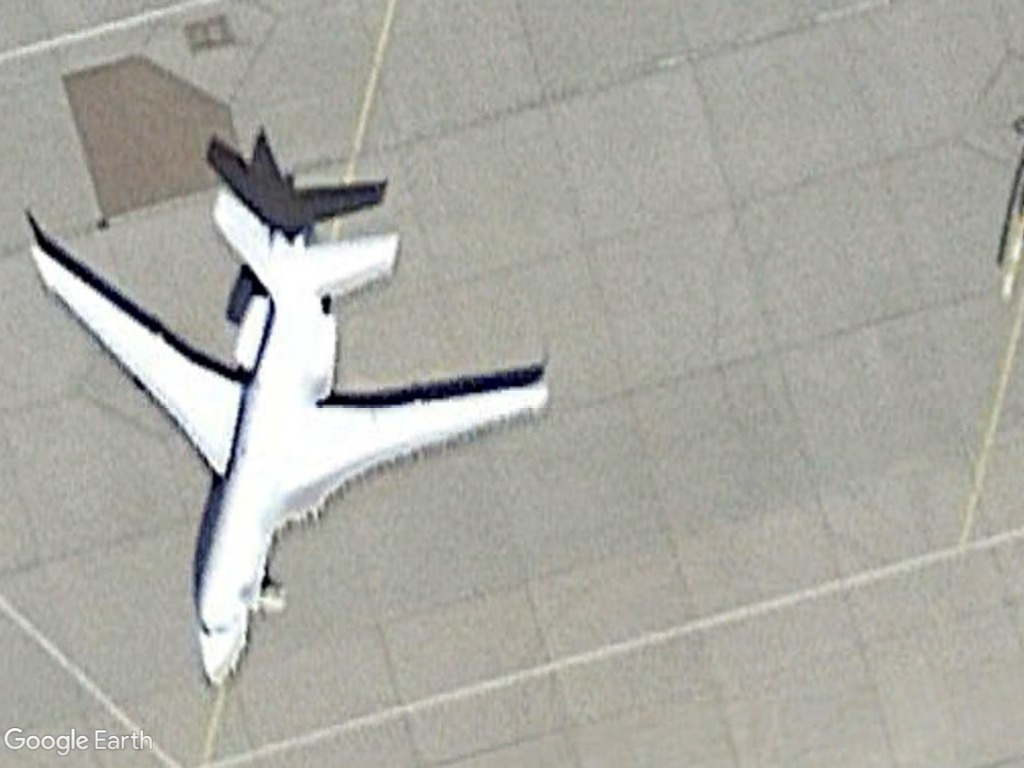chartered: (15, 201, 559, 700)
